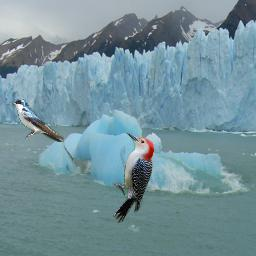Swallow: (12, 99, 64, 142)
Woodpecker: (112, 132, 154, 223)
